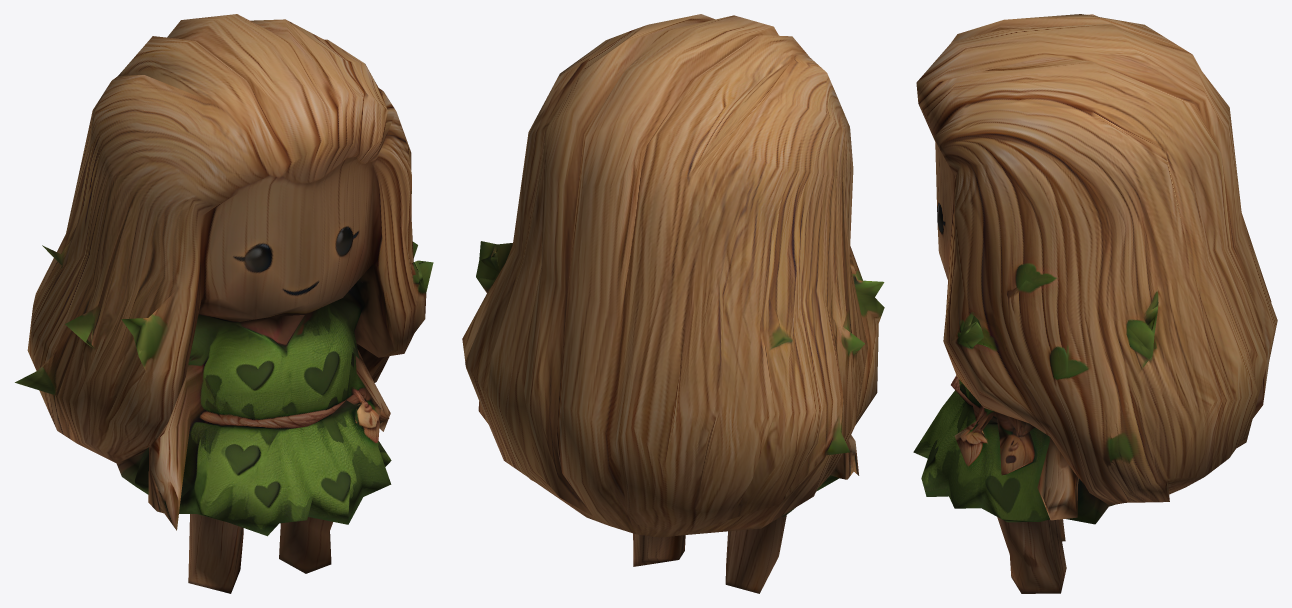
File: Female.glb
The picture shows the model from 3 angles, left to right: view 1: azimuth 30°, elevation 25°; view 2: azimuth 150°, elevation 25°; view 3: azimuth 270°, elevation 25°; orthographic projection. The views are drawn at different scales.
Visible parts, largest first — view 1: tripo_node_6a04d3e1-3c6d-477e-8858-274f37b4514a; view 2: tripo_node_6a04d3e1-3c6d-477e-8858-274f37b4514a; view 3: tripo_node_6a04d3e1-3c6d-477e-8858-274f37b4514a.
Part boxes in pixels (x1=…): tripo_node_6a04d3e1-3c6d-477e-8858-274f37b4514a: x1=15, y1=14, x2=433, y2=593; tripo_node_6a04d3e1-3c6d-477e-8858-274f37b4514a: x1=462, y1=14, x2=884, y2=593; tripo_node_6a04d3e1-3c6d-477e-8858-274f37b4514a: x1=913, y1=14, x2=1277, y2=593.
Size of the model in its own units: 0.742 by 0.9818 by 0.6053.
Materials: 1 (1 with a texture image).
